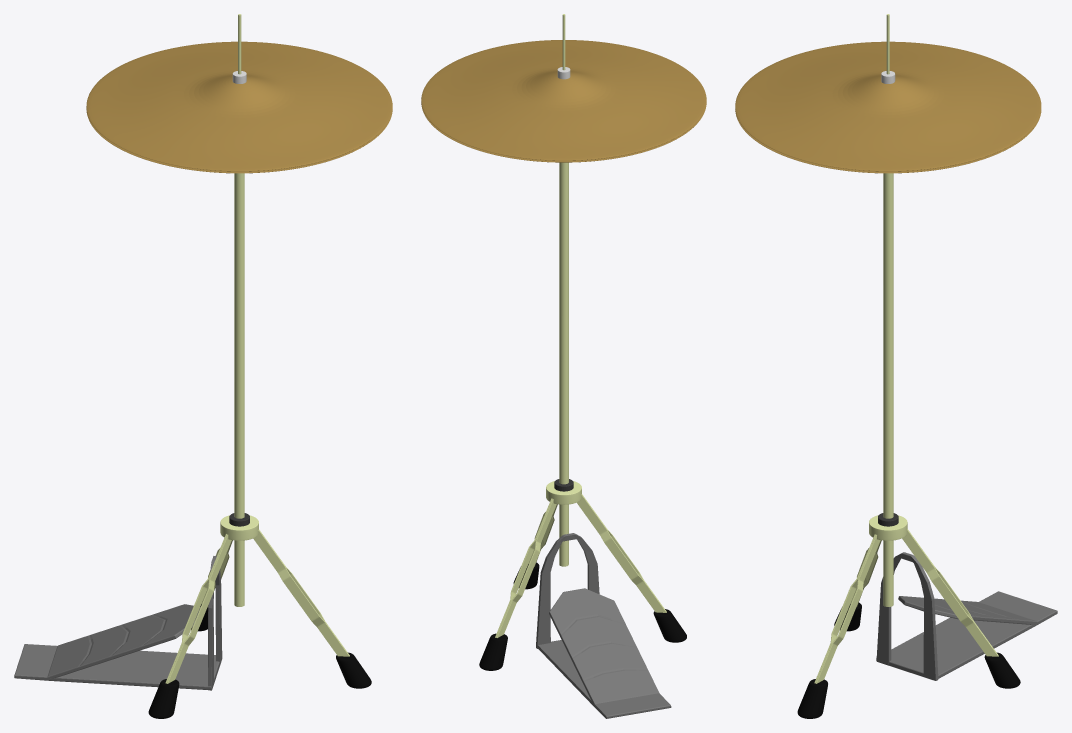
The model's file is HiHat.fbx.
The picture shows the model from 3 angles, left to right: view 1: azimuth 30°, elevation 25°; view 2: azimuth 150°, elevation 25°; view 3: azimuth 270°, elevation 25°; orthographic projection. The views are drawn at different scales.
Visible parts, largest first — view 1: Hi-Hat_Top, Snare_stand.001, Peddle, Hi_hat_Bottom; view 2: Hi-Hat_Top, Peddle, Snare_stand.001, Hi_hat_Bottom; view 3: Hi-Hat_Top, Snare_stand.001, Peddle, Hi_hat_Bottom.
Boxes of the visible parts, box(x1,y1,x2,y2) form: Hi-Hat_Top: box(86, 41, 392, 171); Snare_stand.001: box(148, 14, 371, 718); Peddle: box(14, 556, 222, 690); Hi_hat_Bottom: box(86, 108, 392, 173); Hi-Hat_Top: box(421, 40, 706, 160); Peddle: box(536, 533, 671, 718); Snare_stand.001: box(479, 14, 686, 670); Hi_hat_Bottom: box(421, 103, 706, 162); Hi-Hat_Top: box(735, 41, 1041, 171); Snare_stand.001: box(797, 14, 1020, 718); Peddle: box(876, 552, 1057, 680); Hi_hat_Bottom: box(735, 110, 1041, 173).
Size of the model in its own units: 35.98 by 75.36 by 33.2.
